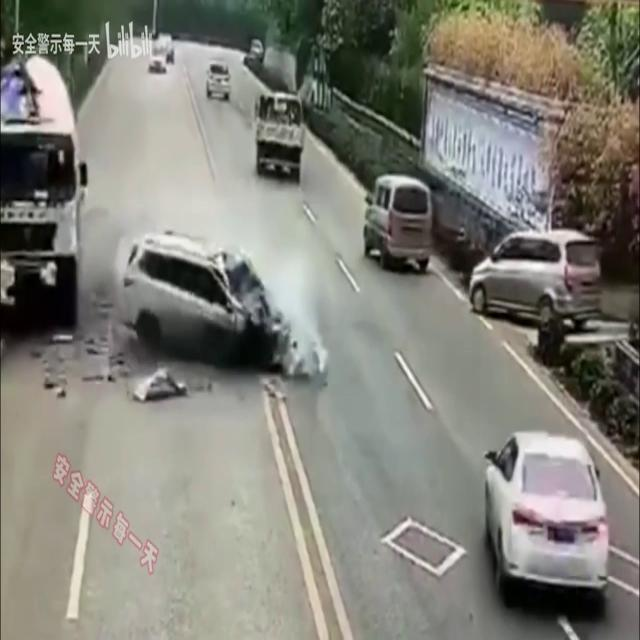accident: (0, 222, 330, 410)
non-accident: (360, 172, 604, 328), (147, 35, 175, 75)
